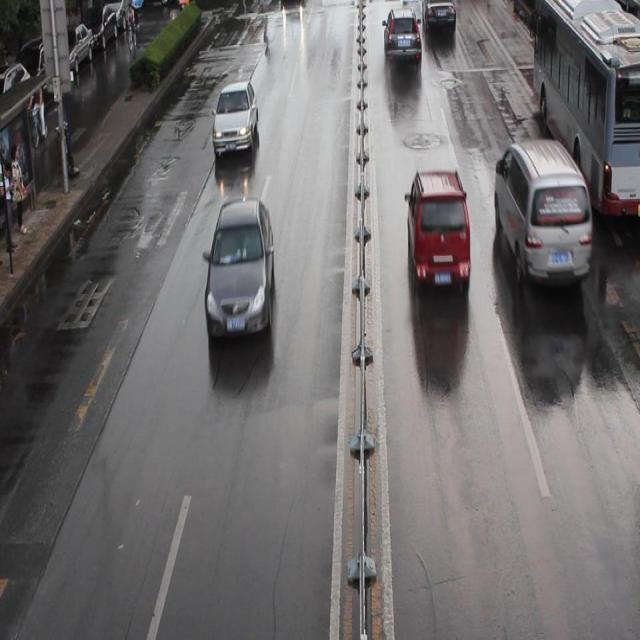car: (204, 199, 274, 336), (405, 169, 471, 290), (213, 81, 258, 156), (382, 8, 421, 63), (422, 1, 455, 31)
truck: (493, 137, 590, 286)
van: (531, 1, 640, 216)
